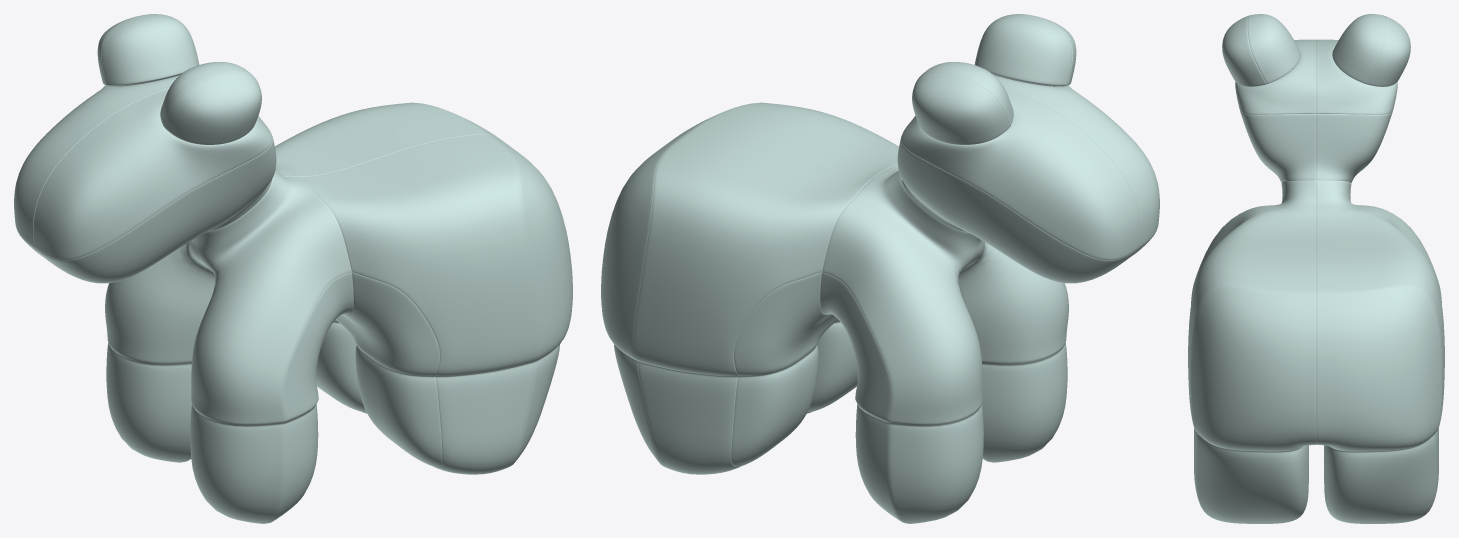
The model's file is Toy.fbx.
The picture shows the model from 3 angles, left to right: view 1: azimuth 30°, elevation 25°; view 2: azimuth 150°, elevation 25°; view 3: azimuth 270°, elevation 25°; orthographic projection. The views are drawn at different scales.
Visible parts, largest first — view 1: Box592; view 2: Box592; view 3: Box592.
Boxes of the visible parts, x1=… form: Box592: x1=14, y1=14, x2=572, y2=523; Box592: x1=601, y1=14, x2=1159, y2=523; Box592: x1=1188, y1=14, x2=1444, y2=523.
Size of the model in its own units: 199 by 169 by 100.
